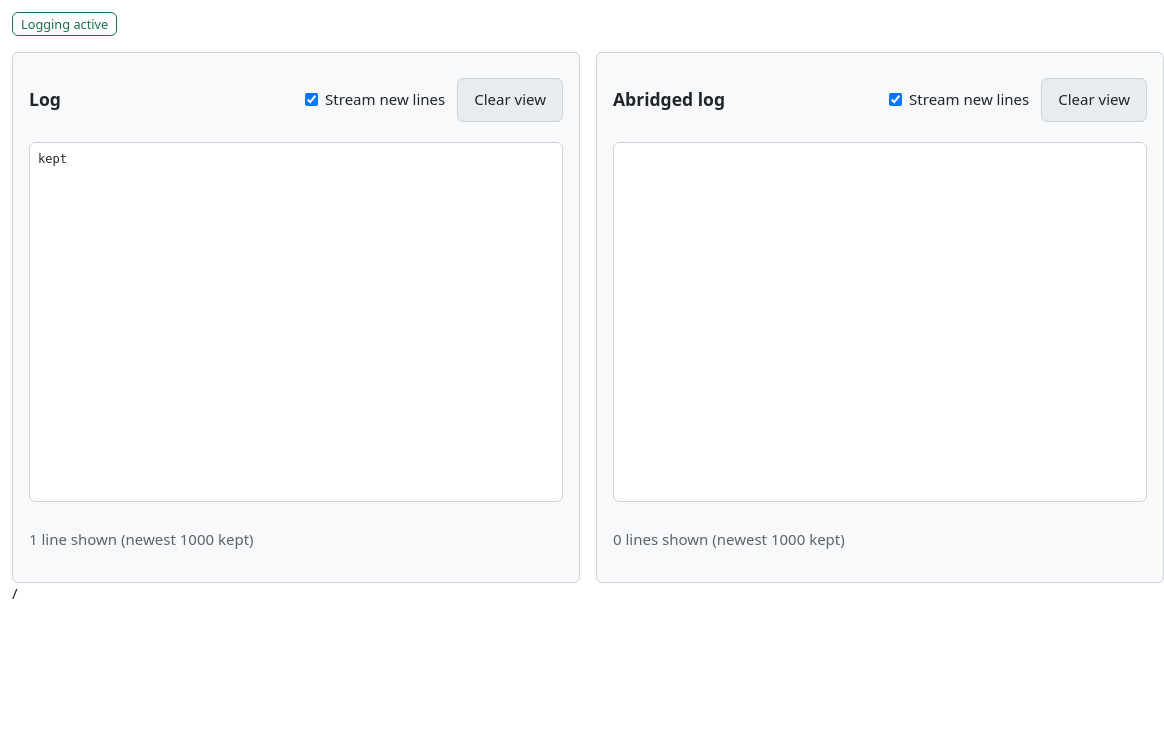
Scenario: LogsPanel › stops streaming a pane while its switch is off, and clears the view
This screenshot has width=1164, height=732.
Later steps or results of the test are not shown.
Click the 1st checkbox labelled "Stream new lines". click: {"x": 312, "y": 100}
box: [305, 93, 318, 106]
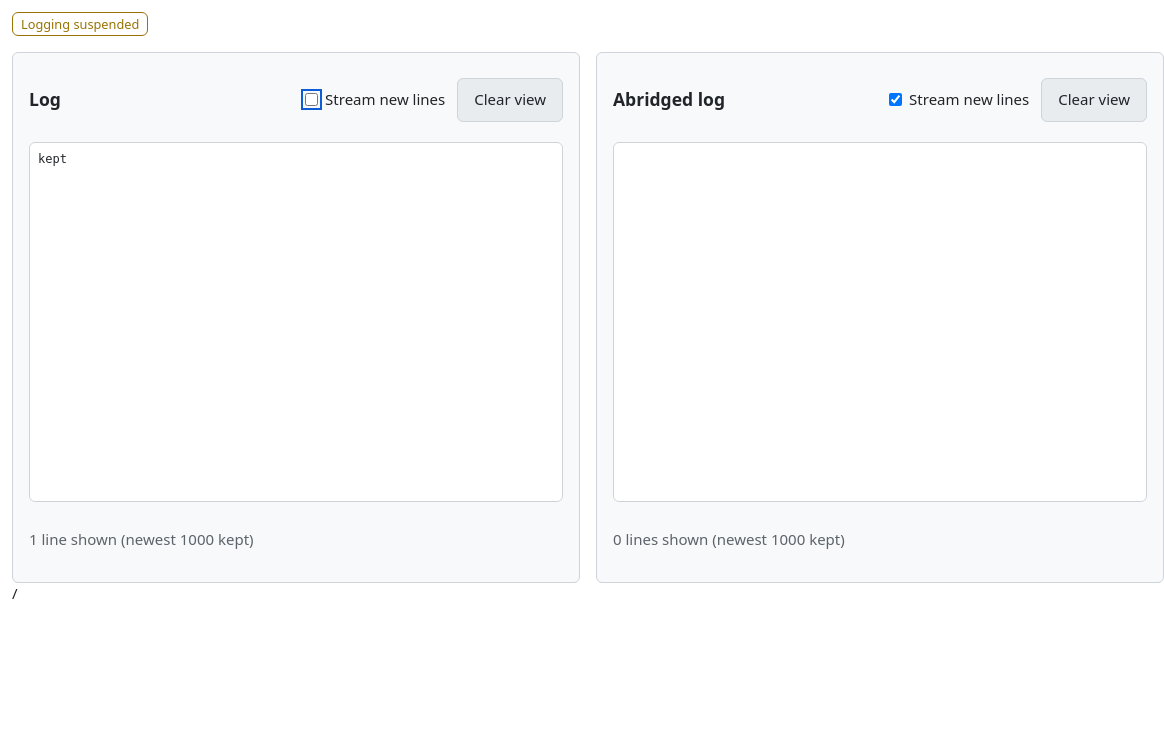
expect the text named "Log lines" reads "kept": met, box [38, 152, 67, 166]
expect the message reads "Logging suspended": met, box [21, 15, 139, 33]
